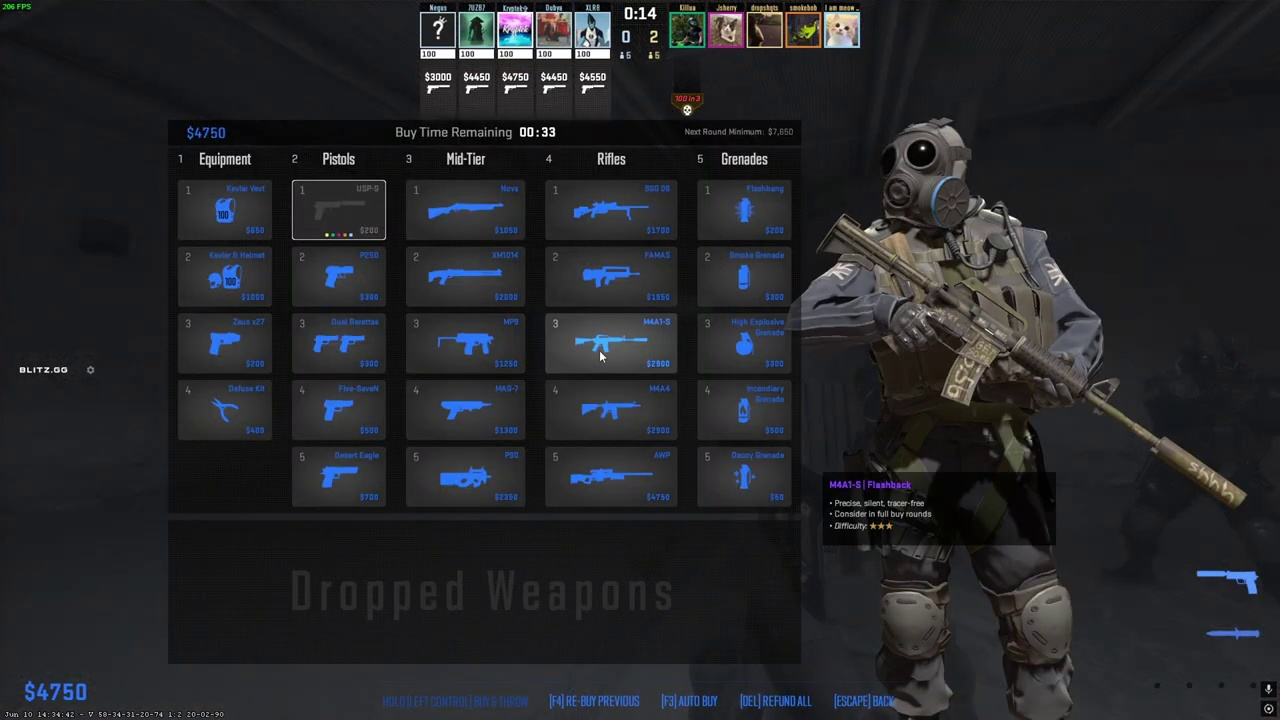CT: (849, 121, 1087, 720)
